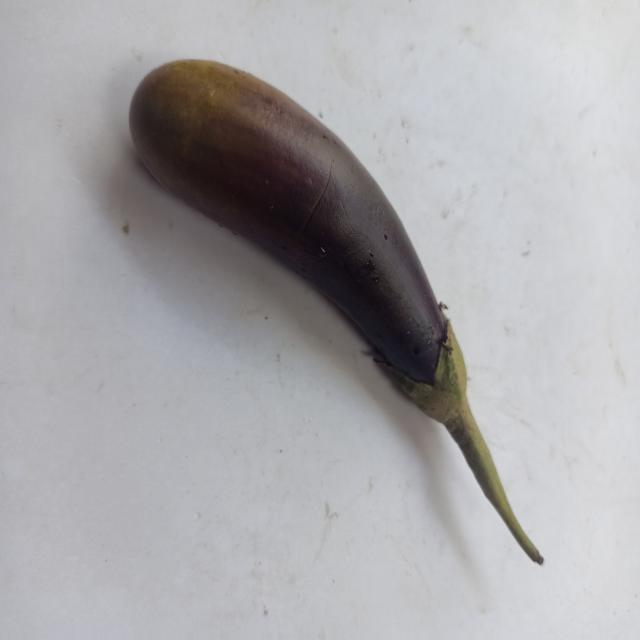Brinjal: (114, 34, 568, 586)
